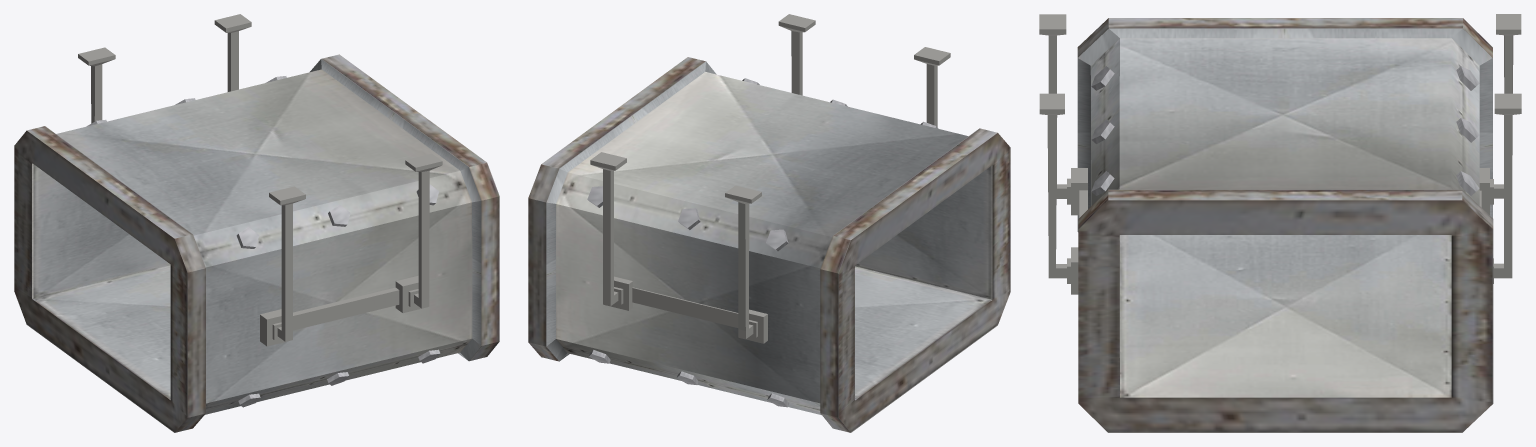
File: Air Ducts_Single.fbx
The picture shows the model from 3 angles, left to right: view 1: azimuth 30°, elevation 25°; view 2: azimuth 150°, elevation 25°; view 3: azimuth 270°, elevation 25°; orthographic projection. The views are drawn at different scales.
Visible parts, largest first — view 1: Single; view 2: Single; view 3: Single.
Boxes of the visible parts, bbox=[...] form: Single: bbox=[14, 14, 499, 432]; Single: bbox=[528, 14, 1010, 432]; Single: bbox=[1039, 14, 1521, 432].
Size of the model in its own units: 61.53 by 44.14 by 68.7.
Materials: 1 (1 with a texture image).
